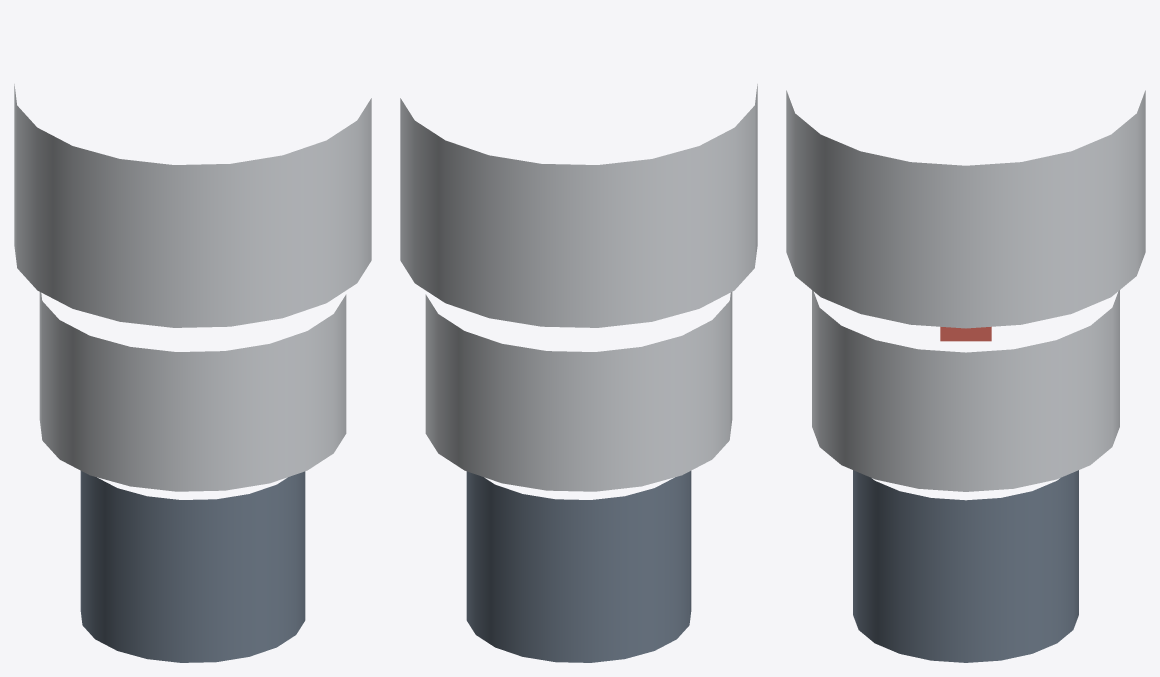
File: concrete_compacting_factor_veebee.glb
3 views of the same model, side by side, from view 1: azimuth 30°, elevation 25°; view 2: azimuth 150°, elevation 25°; view 3: azimuth 270°, elevation 25° (orthographic).
Parts seen in each view (by area): view 1: UpperConicalHopper, LowerConicalHopper, ReceivingCylindricalMold; view 2: UpperConicalHopper, LowerConicalHopper, ReceivingCylindricalMold; view 3: UpperConicalHopper, LowerConicalHopper, ReceivingCylindricalMold, QuickReleaseTrapdoorLatch.
Boxes of the visible parts, x1,y1,x2,y2 form: UpperConicalHopper: (14,84,371,327); LowerConicalHopper: (39,292,346,491); ReceivingCylindricalMold: (80,471,305,662); UpperConicalHopper: (400,84,757,327); LowerConicalHopper: (425,292,732,491); ReceivingCylindricalMold: (466,471,691,662); UpperConicalHopper: (786,90,1145,328); LowerConicalHopper: (812,290,1119,491); ReceivingCylindricalMold: (853,470,1078,662); QuickReleaseTrapdoorLatch: (940,326,991,341).
Size of the model in its own units: 0.7 by 1.13 by 0.7.
